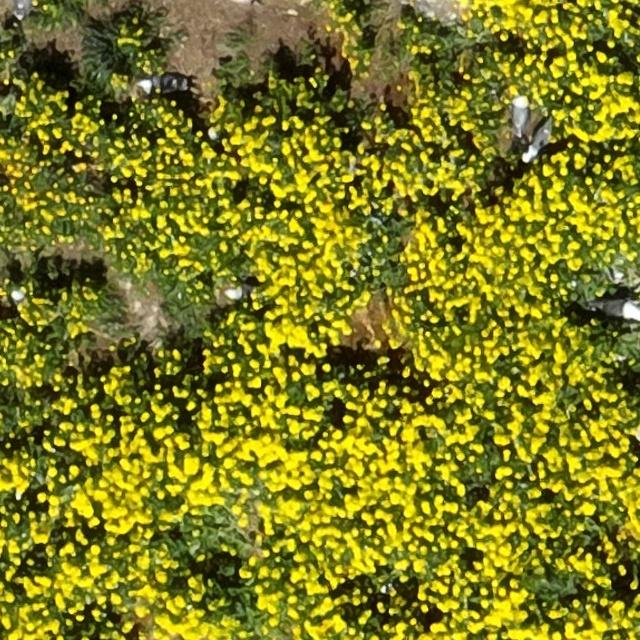umineko: (526, 122, 554, 159), (594, 298, 638, 318), (142, 74, 181, 92), (511, 96, 527, 139), (223, 283, 250, 299), (13, 0, 33, 15)
